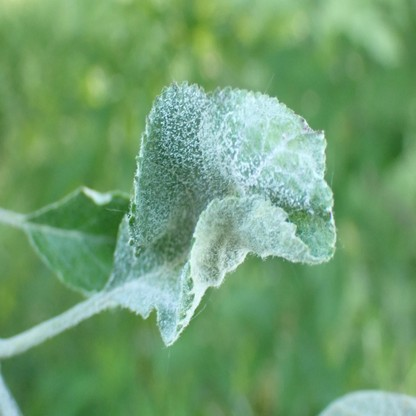powder: (110, 79, 337, 349), (319, 390, 416, 416), (38, 231, 85, 267)
